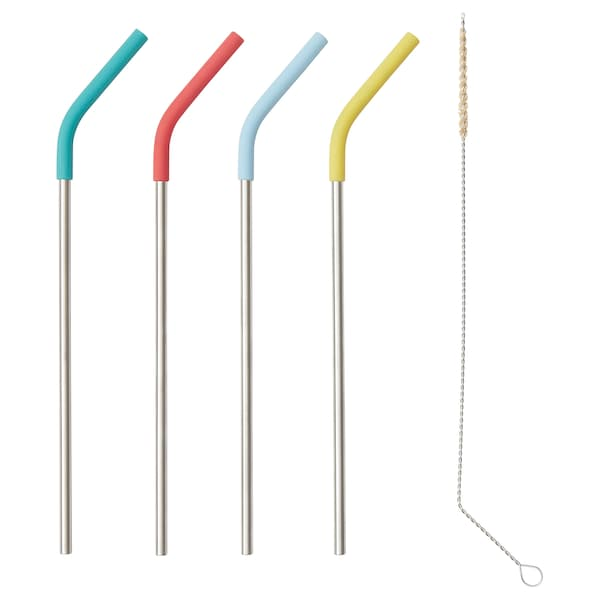Drinking Straw: (48, 27, 150, 558), (232, 31, 332, 560)
